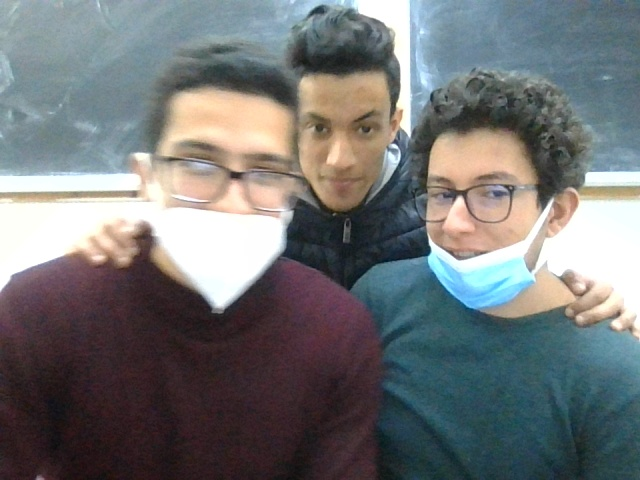mask_weared_incorrect: (405, 70, 579, 304)
without_mask: (290, 10, 397, 213)
